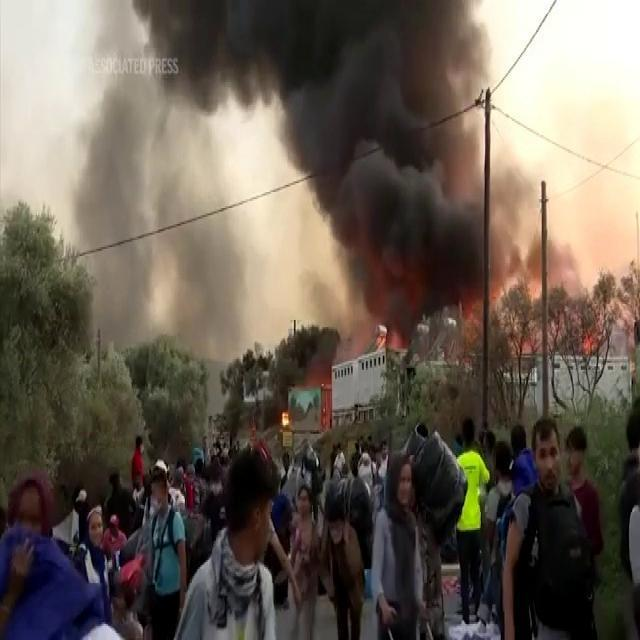Smoke: (62, 0, 284, 346), (284, 0, 520, 309)
